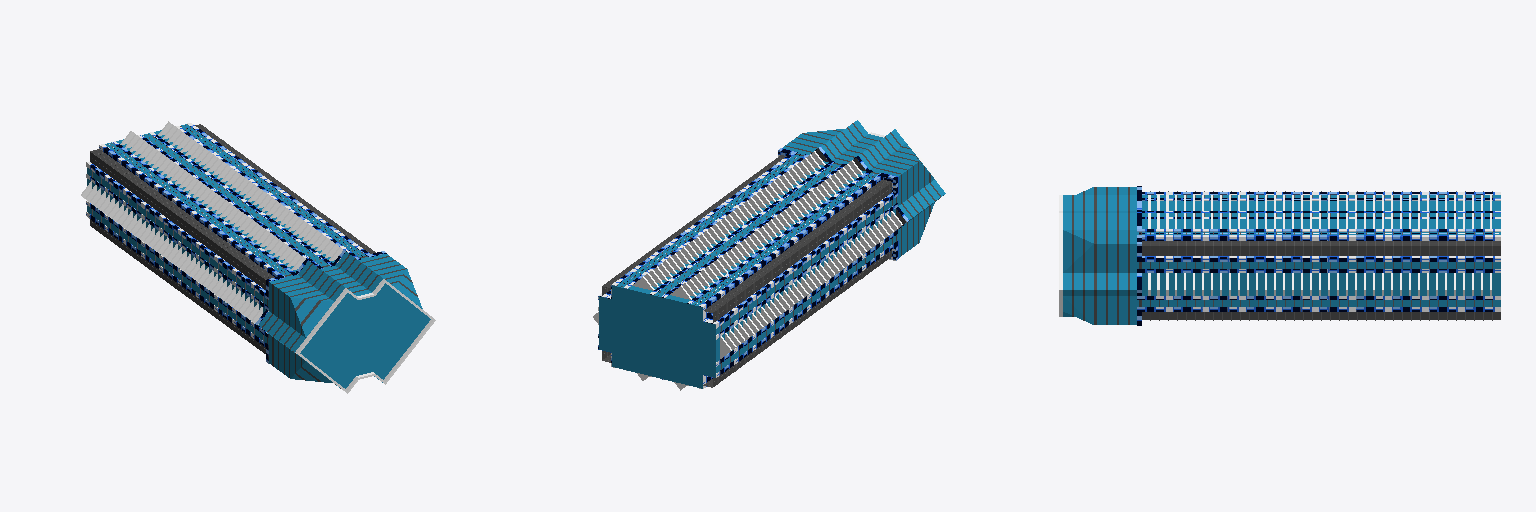
3 renders of one model, left to right at view 1: azimuth 30°, elevation 25°; view 2: azimuth 150°, elevation 25°; view 3: azimuth 270°, elevation 25°, orthographic.
Visible parts, largest first — view 1: glass1_01, slab_01, wall_02, glass2_01, frame_01; view 2: glass1_01, slab_01, wall_02, glass2_01, frame_01; view 3: glass1_01, wall_02, glass2_01, slab_01, frame_01.
Boxes of the visible parts, x1,y1,x2,y2 form: glass1_01: [87, 124, 430, 388]; slab_01: [81, 121, 435, 393]; wall_02: [86, 123, 386, 363]; glass2_01: [90, 124, 417, 388]; frame_01: [92, 125, 372, 349]; glass1_01: [599, 120, 945, 388]; slab_01: [593, 118, 947, 390]; wall_02: [598, 146, 908, 388]; glass2_01: [602, 123, 940, 387]; frame_01: [603, 154, 892, 386]; glass1_01: [1063, 187, 1500, 324]; wall_02: [1137, 186, 1500, 325]; glass2_01: [1072, 187, 1500, 324]; slab_01: [1059, 195, 1491, 316]; frame_01: [1141, 191, 1500, 320].
Size of the model in its own units: 2156 by 1556 by 5906.
6 materials, 1 textured.